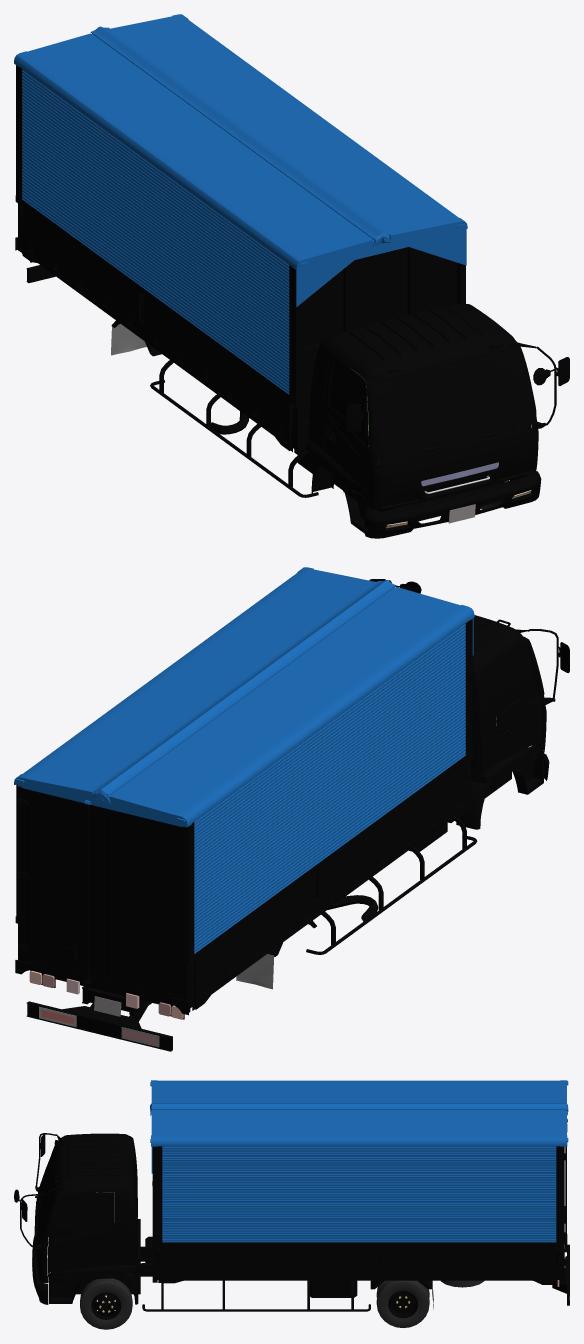
Rendered from Isuzu.fbx.
The picture shows the model from 3 angles, top to bottom: view 1: azimuth 30°, elevation 25°; view 2: azimuth 150°, elevation 25°; view 3: azimuth 270°, elevation 25°; orthographic projection. The views are drawn at different scales.
Visible parts, largest first — view 1: Isuzu; view 2: Isuzu; view 3: Isuzu, Isuzu.001, Isuzu.002.
Boxes of the visible parts, bbox=[...] form: Isuzu: bbox=[14, 14, 569, 538]; Isuzu: bbox=[14, 567, 569, 1051]; Isuzu: bbox=[14, 1080, 569, 1311]; Isuzu.001: bbox=[80, 1278, 132, 1329]; Isuzu.002: bbox=[376, 1280, 429, 1327].
Size of the model in its own units: 194 by 235 by 600.
